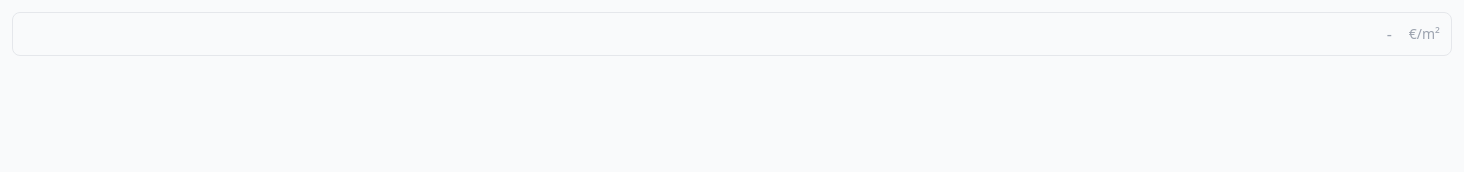
Scenario: UnifiedNumericInput (H-38) › escribir «0.5» guarda 0.5 y la casilla enseña «0,5»
The image size is (1464, 172).
Type "0.5" into the field. click: [732, 34]
box: 12,12 -> 1452,56
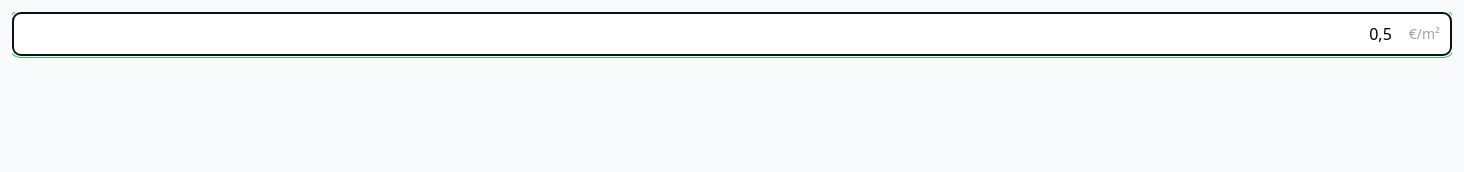
Check: the field holds "0,5", box 12,12 -> 1452,56
